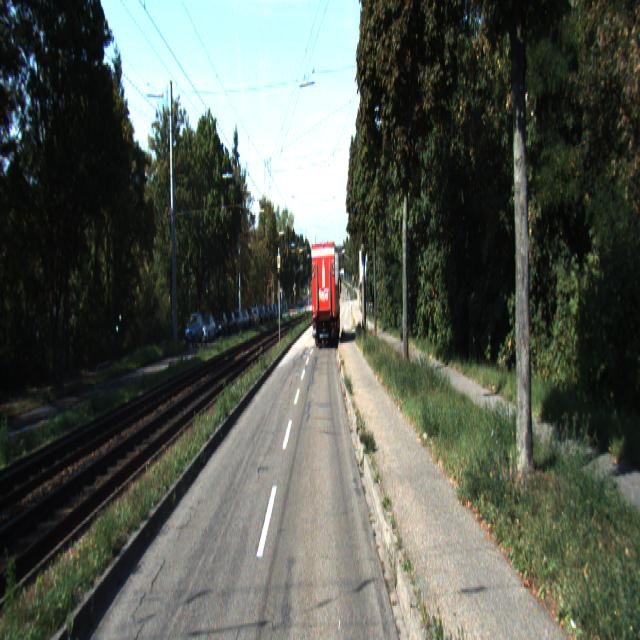Car: (309, 244, 341, 352), (184, 310, 204, 346)
